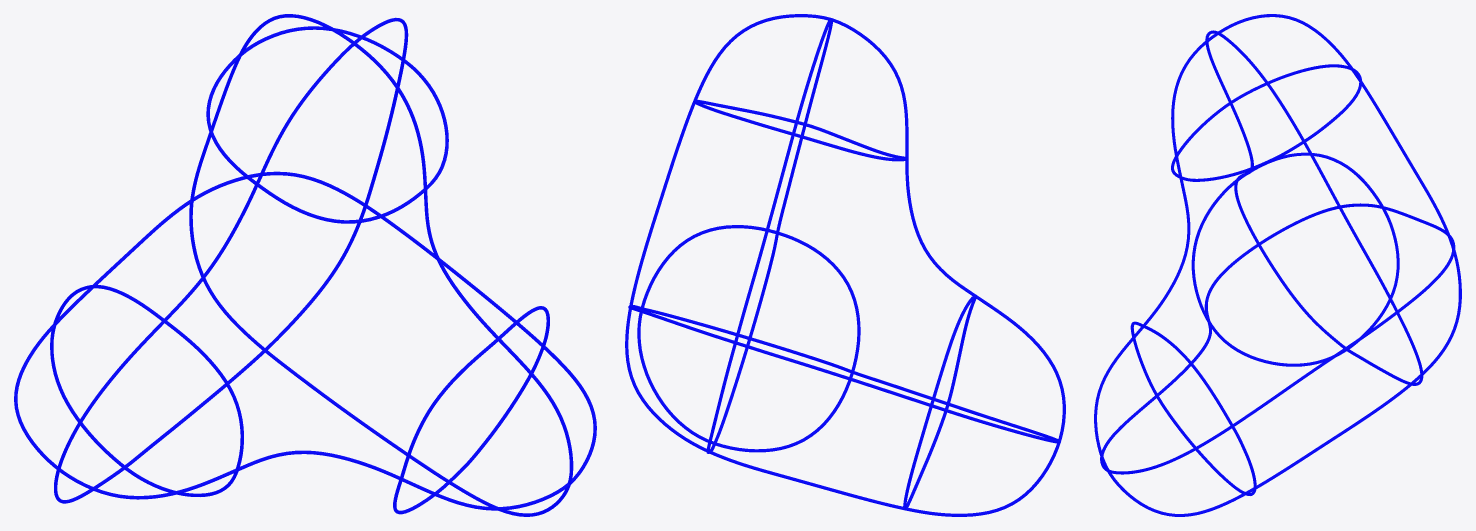
File: flowrep_trebol.glb
3 renders of one model, left to right at view 1: azimuth 30°, elevation 25°; view 2: azimuth 150°, elevation 25°; view 3: azimuth 270°, elevation 25°, orthographic. The views are drawn at different scales.
Visible parts, largest first — view 1: flowrep_trebol; view 2: flowrep_trebol; view 3: flowrep_trebol.
Part boxes in pixels (<box>): flowrep_trebol: <box>14,14,596,516</box>; flowrep_trebol: <box>625,14,1065,516</box>; flowrep_trebol: <box>1094,14,1461,516</box>.
Bounding box in the file's own units: 0.6368 × 0.6194 × 0.4737.
